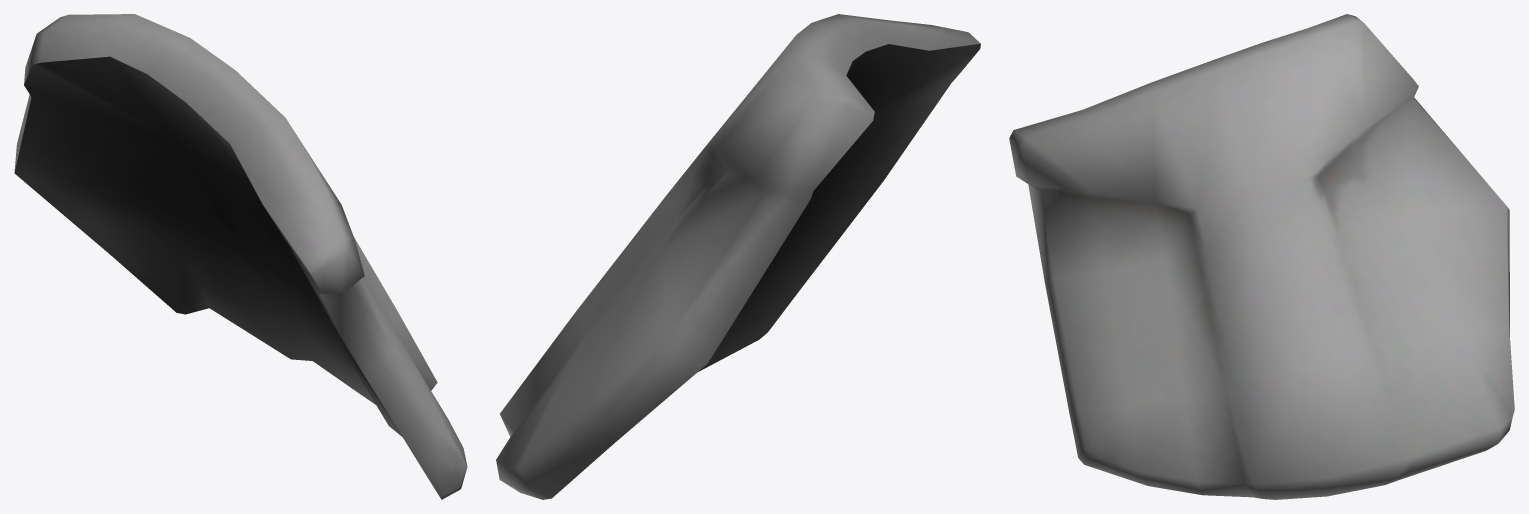
File: Stormtrooper_HandR.fbx
The picture shows the model from 3 angles, left to right: view 1: azimuth 30°, elevation 25°; view 2: azimuth 150°, elevation 25°; view 3: azimuth 270°, elevation 25°; orthographic projection. The views are drawn at different scales.
Visible parts, largest first — view 1: HandR; view 2: HandR; view 3: HandR.
Part boxes in pixels (x1=…): HandR: x1=14, y1=14, x2=467, y2=499; HandR: x1=496, y1=14, x2=980, y2=499; HandR: x1=1009, y1=14, x2=1514, y2=499.
Bounding box in the file's own units: 0.0732 × 0.0865 × 0.1064.
